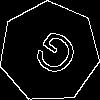G: (24, 27, 82, 87)
